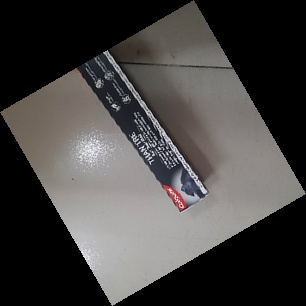Colgate Than: (74, 39, 209, 213)
